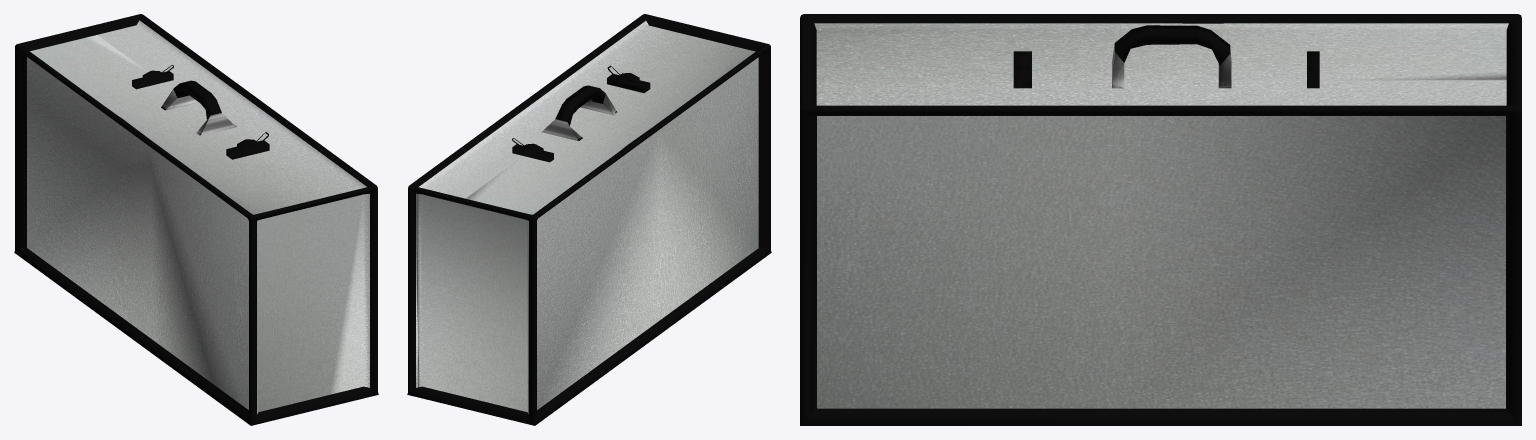
The model's file is briefcase.glb.
3 views of the same model, side by side, from view 1: azimuth 30°, elevation 25°; view 2: azimuth 150°, elevation 25°; view 3: azimuth 270°, elevation 25° (orthographic). The views are drawn at different scales.
Parts seen in each view (by area): view 1: Object_0, Object_6, Object_4, Object_5; view 2: Object_0, Object_6, Object_4, Object_5; view 3: Object_0, Object_6, Object_4, Object_5.
Part boxes in pixels (<box>): Object_0: <box>27,20,369,414</box>; Object_6: <box>14,14,378,425</box>; Object_4: <box>132,65,269,159</box>; Object_5: <box>162,89,236,135</box>; Object_0: <box>416,21,758,414</box>; Object_6: <box>407,14,771,425</box>; Object_4: <box>512,65,650,162</box>; Object_5: <box>541,93,617,140</box>; Object_0: <box>814,23,1508,408</box>; Object_6: <box>800,14,1521,425</box>; Object_4: <box>1013,25,1319,88</box>; Object_5: <box>1112,45,1231,88</box>.
Size of the model in its own units: 0.1403 by 0.2425 by 0.45.
5 materials, 2 textured.
